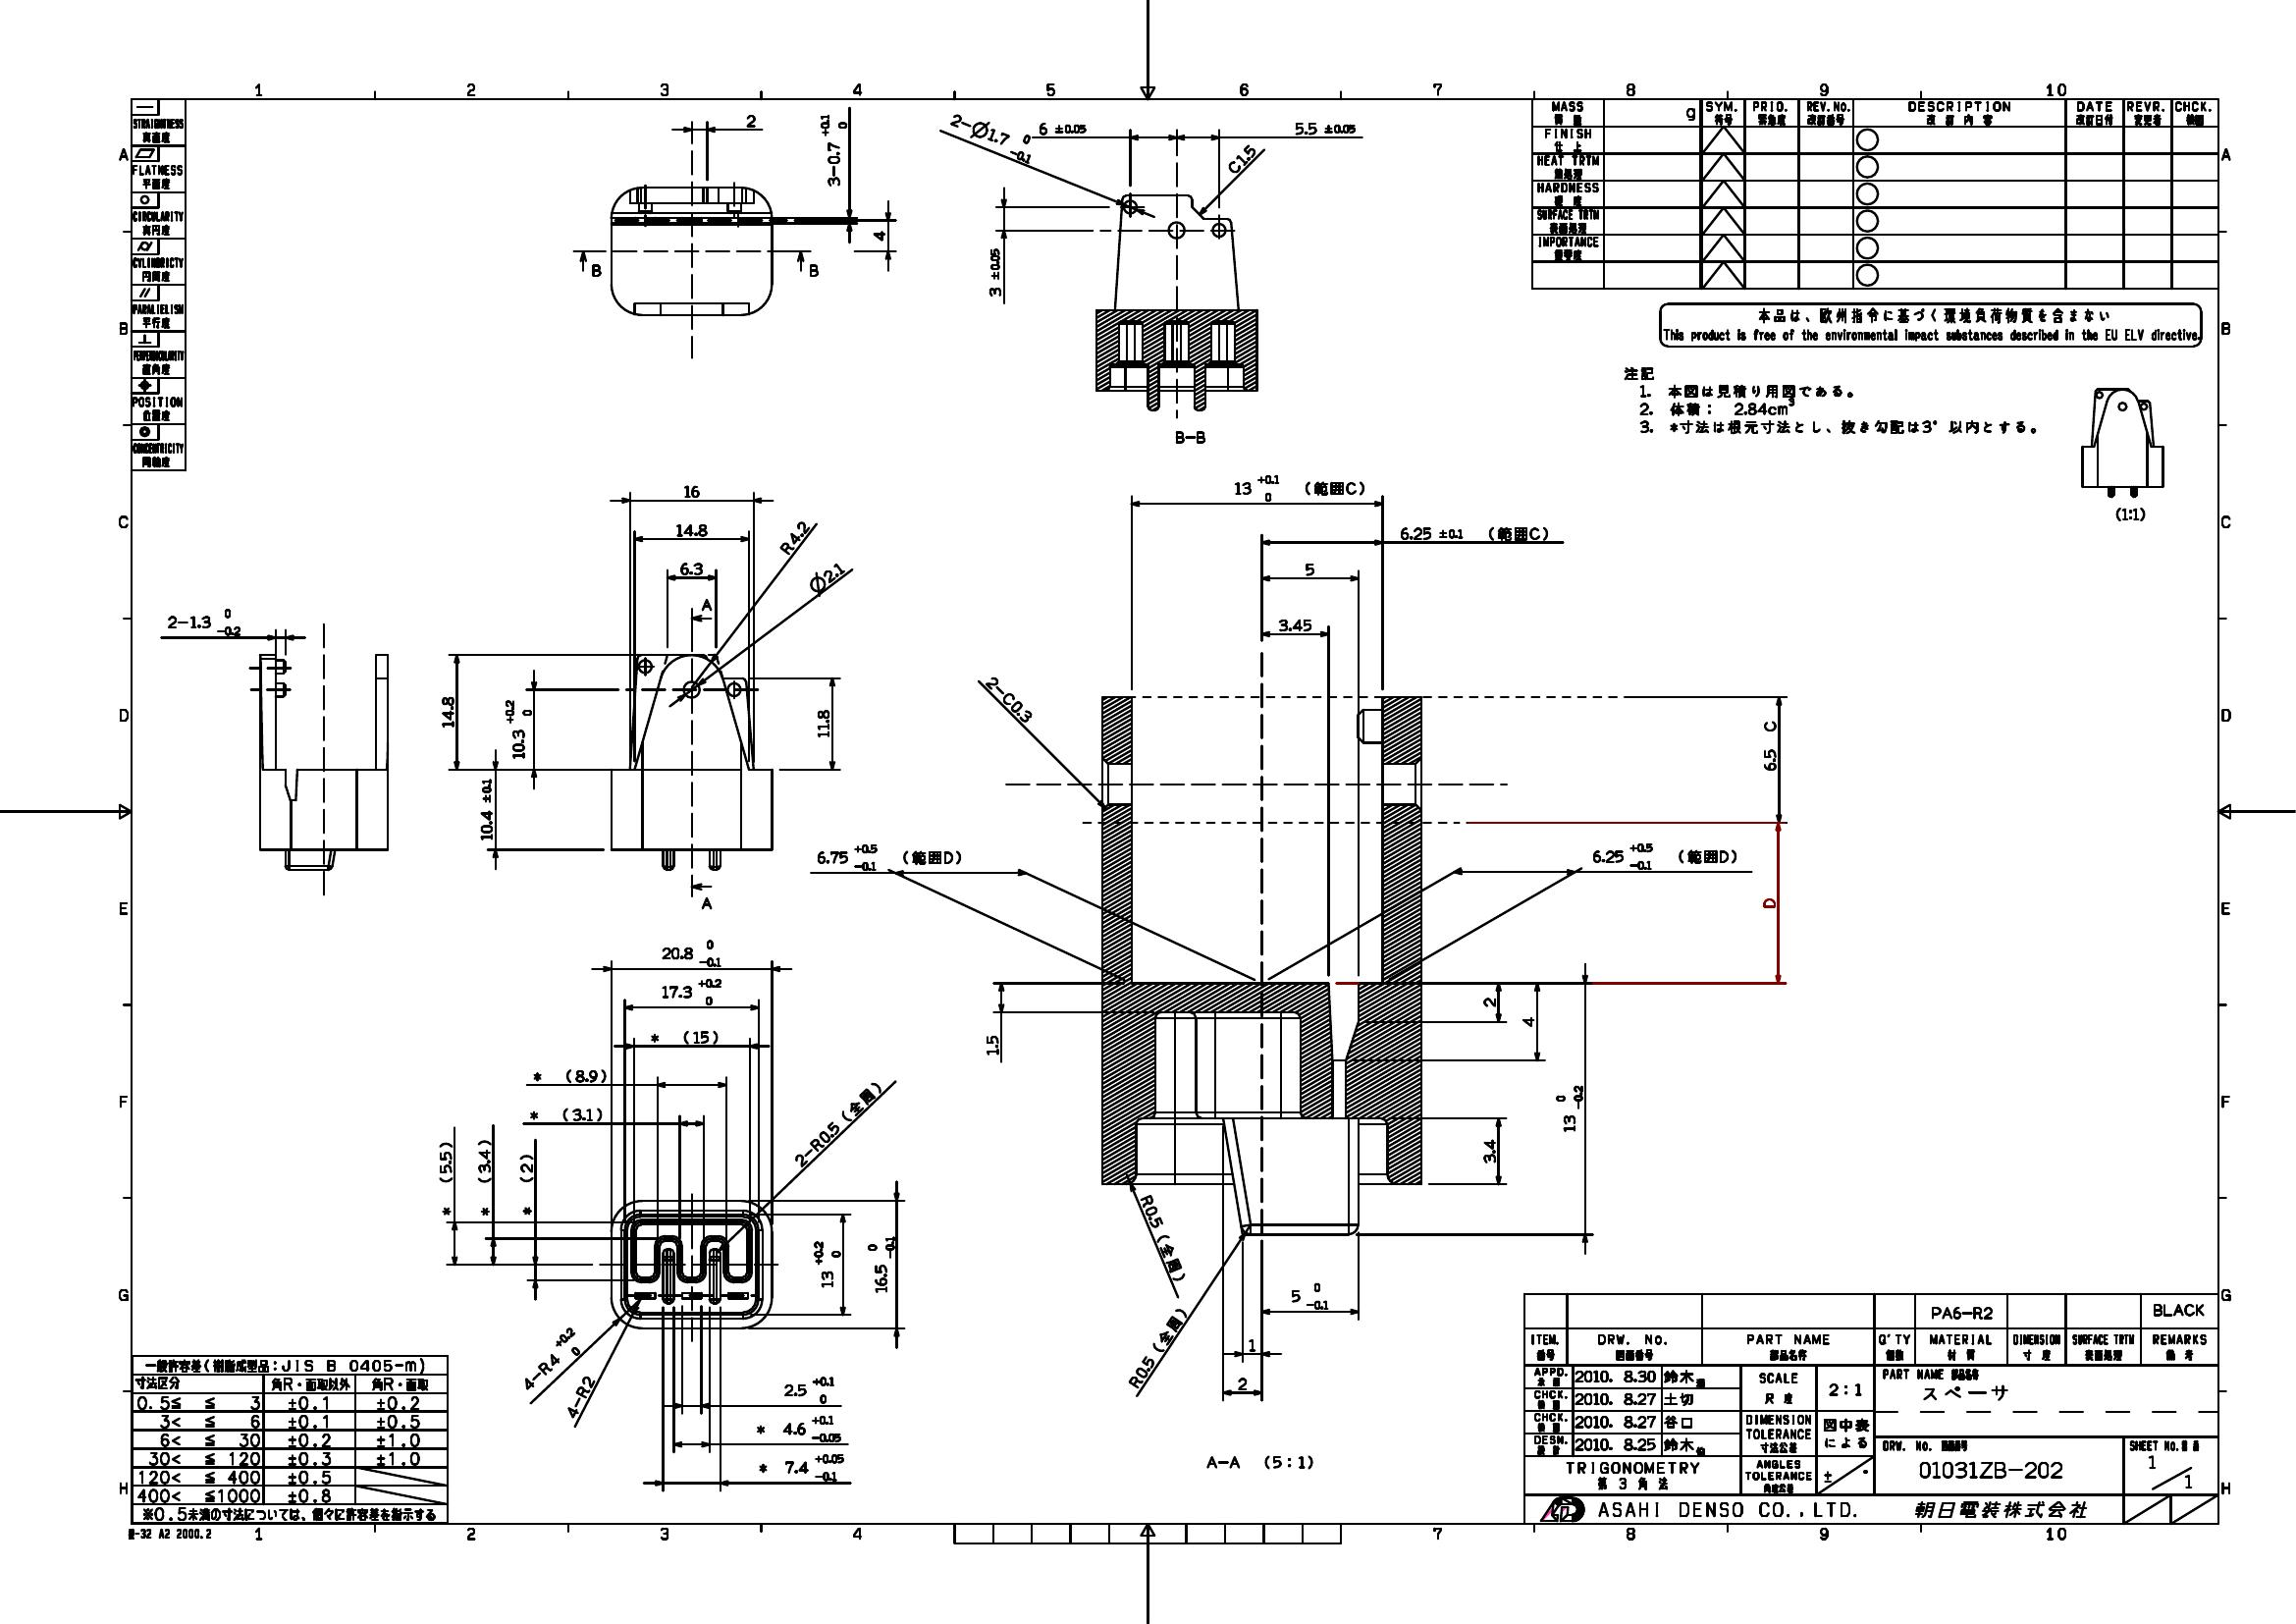anntotation_text: (1621, 364, 2041, 441), (1658, 304, 2203, 346), (1203, 1446, 1319, 1473), (123, 1526, 216, 1545), (896, 845, 963, 868), (1672, 845, 1737, 868), (1305, 478, 1367, 501), (1484, 524, 1551, 541), (1142, 1246, 1193, 1269), (836, 1090, 892, 1109), (1170, 425, 1214, 446), (1145, 1318, 1191, 1338), (2112, 501, 2145, 524), (696, 591, 713, 617), (1758, 891, 1778, 912), (588, 260, 606, 281), (699, 893, 715, 916), (1760, 715, 1778, 733), (806, 258, 822, 278)
dimension_text: (748, 1446, 850, 1485), (748, 1411, 848, 1445), (940, 120, 1047, 149), (499, 692, 538, 763), (508, 1341, 588, 1374), (817, 111, 848, 195), (162, 606, 241, 638), (863, 1232, 899, 1297), (1588, 835, 1655, 870), (659, 974, 727, 1007), (659, 935, 729, 967), (432, 1134, 457, 1220), (812, 844, 885, 872), (808, 1236, 843, 1294), (1231, 468, 1291, 501), (523, 1100, 604, 1125), (1286, 1276, 1337, 1313), (1390, 520, 1465, 545), (780, 1371, 838, 1403), (473, 1135, 494, 1218), (643, 1025, 724, 1046), (513, 1153, 536, 1220), (529, 1065, 606, 1084), (476, 775, 497, 845), (555, 1380, 615, 1404), (1289, 116, 1358, 137), (1555, 1083, 1583, 1130), (782, 1134, 848, 1153), (973, 689, 1038, 708), (1214, 148, 1268, 169), (799, 566, 850, 587), (769, 526, 824, 545), (984, 241, 1001, 301), (1036, 120, 1096, 135), (1270, 613, 1318, 633), (1130, 1204, 1179, 1222), (669, 517, 708, 538), (437, 692, 457, 733), (813, 705, 833, 743), (1121, 1360, 1158, 1378), (1479, 1132, 1497, 1167), (1760, 743, 1780, 773), (678, 482, 703, 503), (675, 561, 706, 576), (982, 1028, 1000, 1056), (1231, 1373, 1254, 1394), (868, 225, 891, 243), (1298, 561, 1318, 580), (1518, 1011, 1537, 1028), (1481, 990, 1495, 1012), (741, 112, 761, 128), (1242, 1336, 1258, 1353)
object: (1101, 696, 1423, 1234), (606, 650, 776, 874), (1093, 195, 1261, 413), (260, 650, 392, 872), (613, 1199, 775, 1329), (611, 186, 775, 315), (2075, 383, 2170, 499)
title_block: (1523, 1294, 2217, 1524), (1532, 98, 2217, 290), (134, 1353, 450, 1526), (130, 95, 188, 468)
